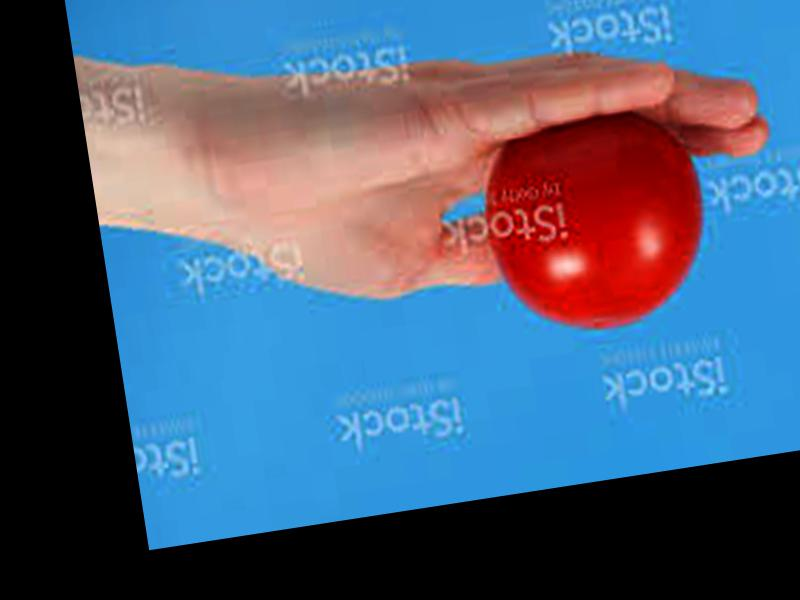Tomato: (476, 105, 717, 338)
